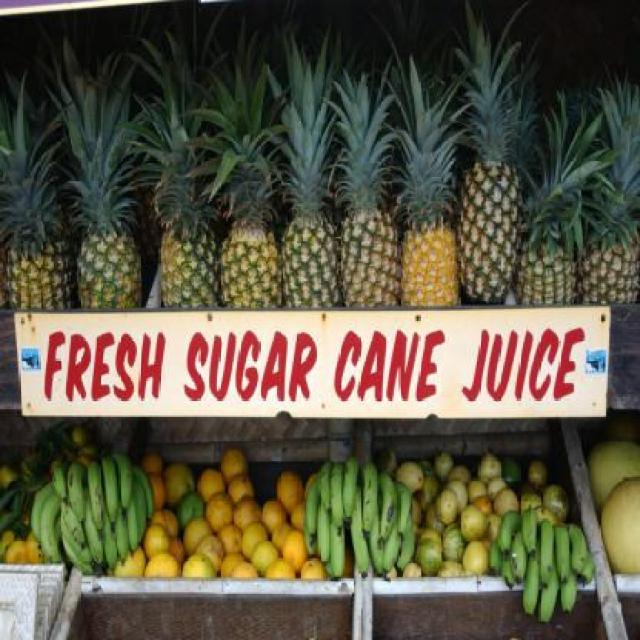Pineapple: (178, 58, 290, 306), (48, 36, 148, 308), (255, 32, 348, 306), (508, 88, 617, 306), (138, 28, 220, 312), (456, 27, 532, 304), (316, 62, 401, 306), (0, 62, 78, 313), (394, 52, 463, 308), (576, 66, 640, 300)
